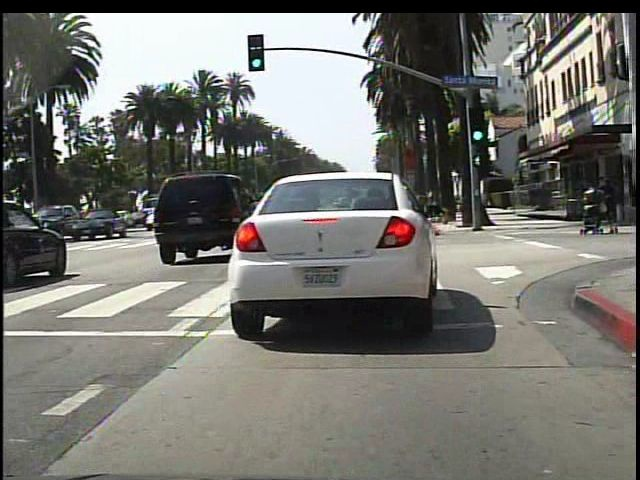person: (577, 161, 621, 241)
